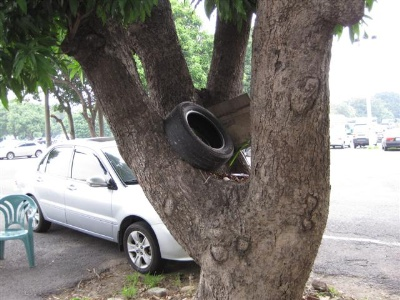tire: (162, 100, 234, 173)
